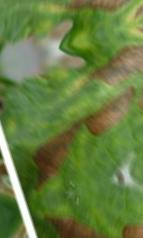Tomato leaf bacterial spot: (0, 14, 143, 205)
